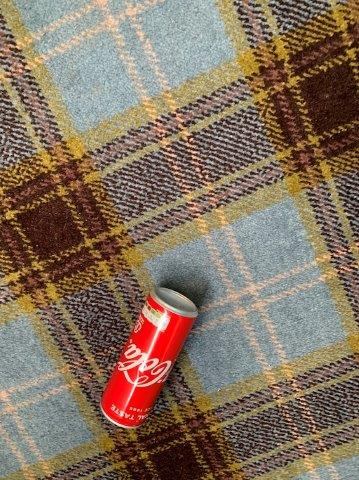kaleng: (101, 288, 198, 429)
